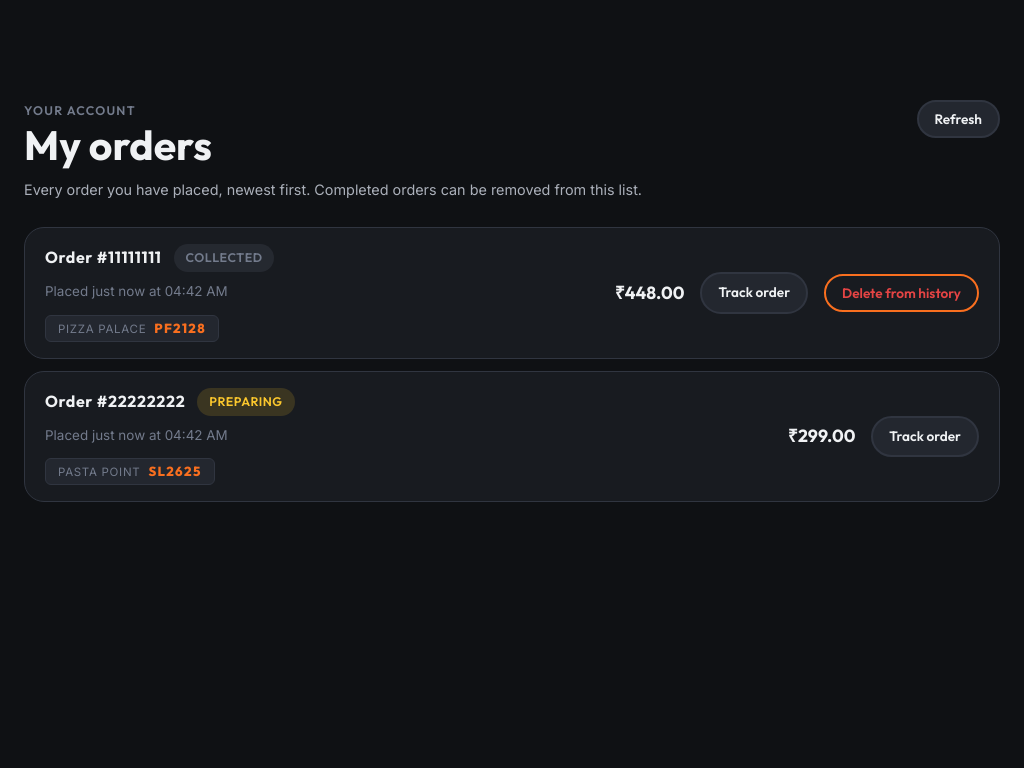
Test case: asks for confirmation, then removes the row on success
Expected: the text "Pizza Palace" is shown, [58, 320, 146, 338]
Click the button "Delete from history" at (902, 293), box [824, 274, 979, 312]
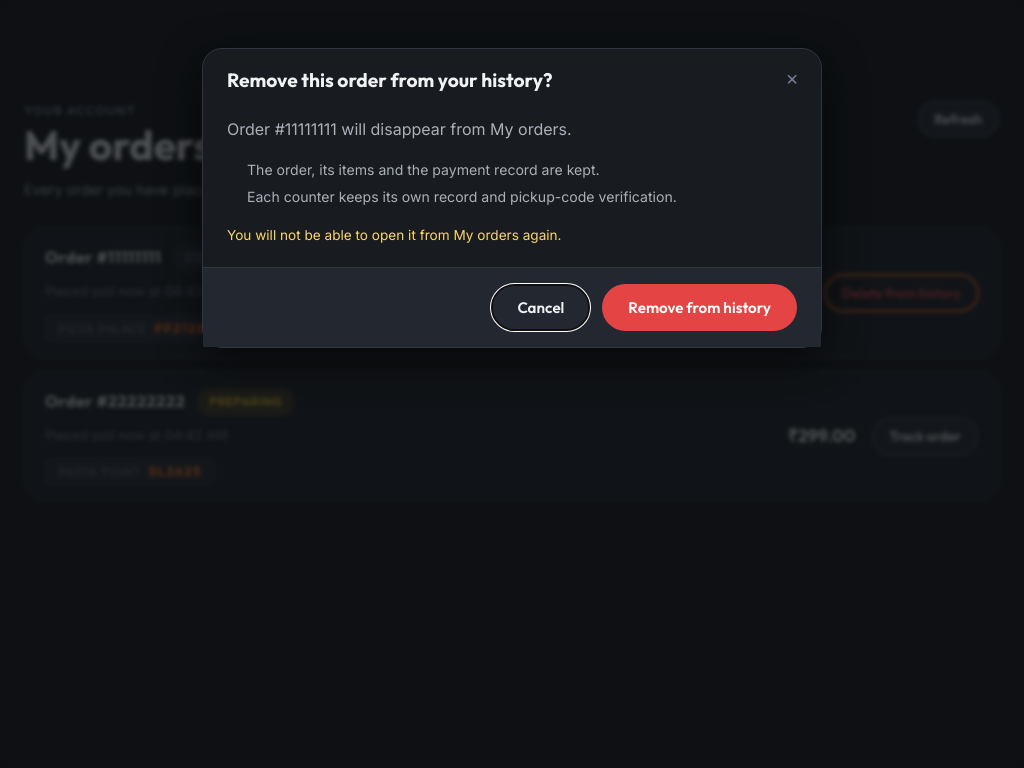
Expected: the dialog is shown, [202, 48, 822, 348]
Expected: the heading "Remove this order from your history?" is shown, [227, 68, 552, 92]
Expected: the list item "The order, its items and the payment record are kept." is shown, [247, 161, 600, 178]
Click the button "Remove from history" at (700, 308), box [602, 284, 797, 331]
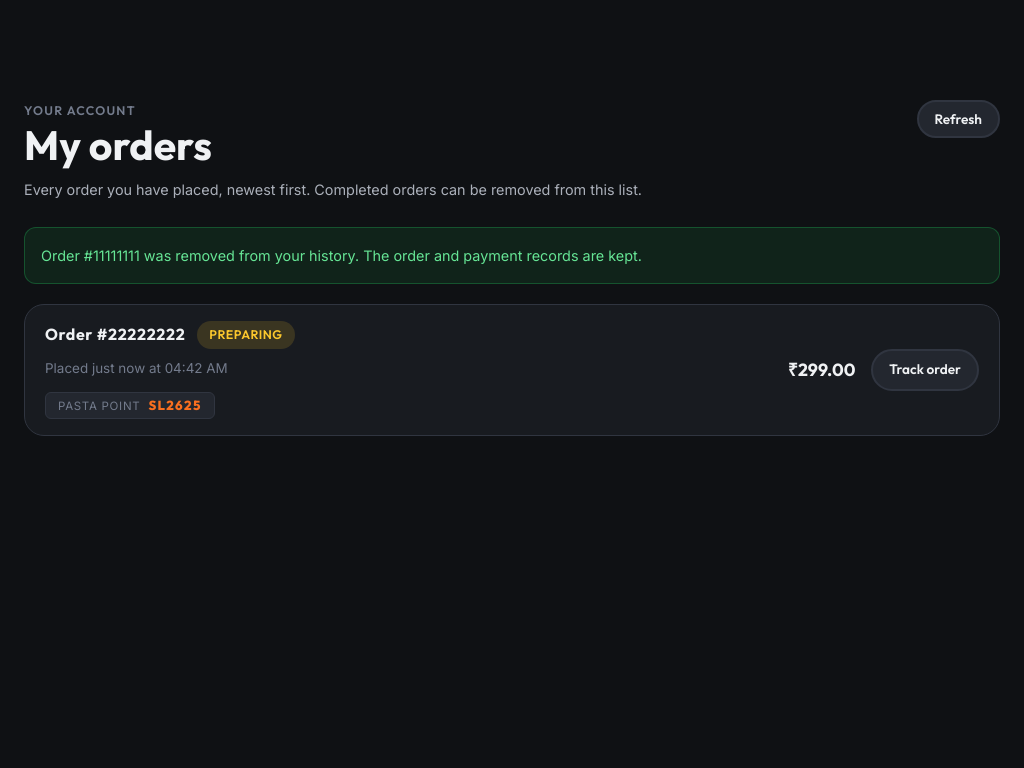
Expected: the text "Pizza Palace" is gone
Expected: the dialog is gone
Expected: the message shows "removed from your history", [41, 247, 642, 264]
